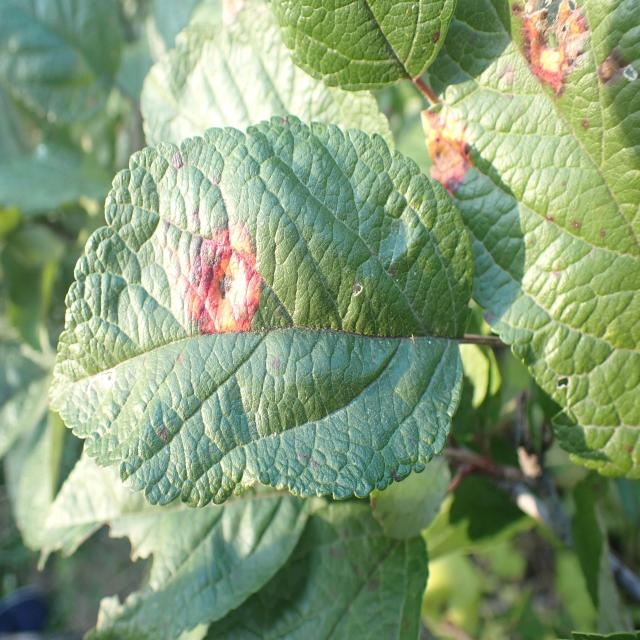rust: (48, 115, 475, 509), (419, 1, 640, 479)
